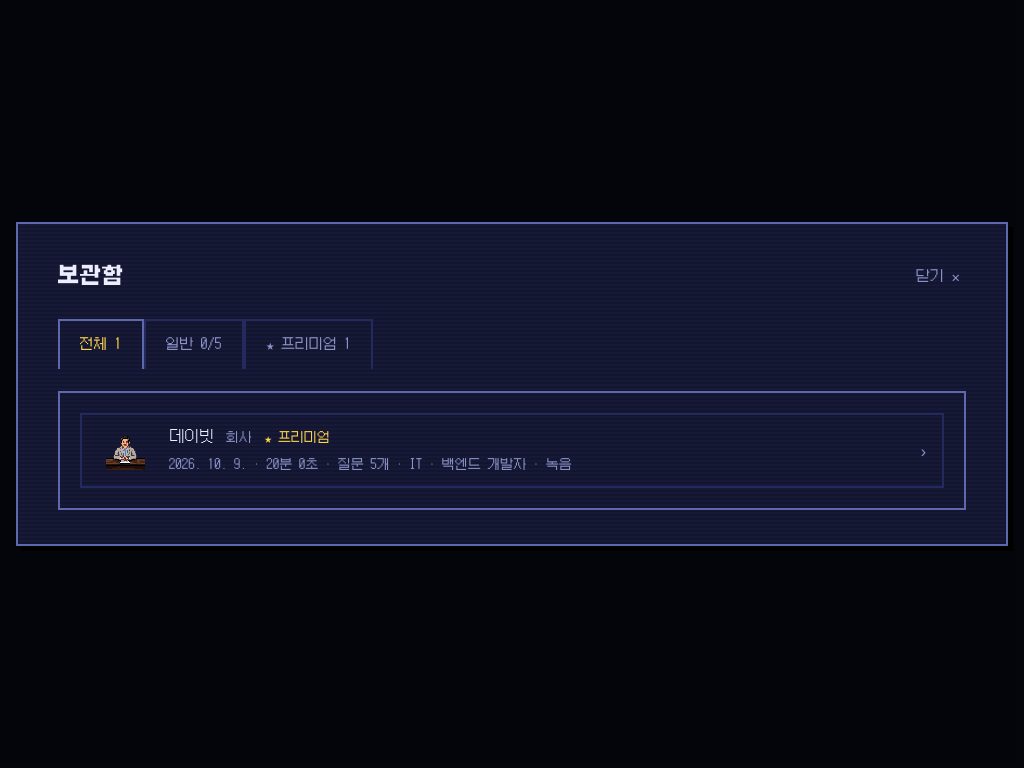
Test: ArchiveModal — 상세 › 녹음이 있으면 답변 옆에서 재생할 수 있다
The width and height of the screenshot is (1024, 768).
Click the button with test id "archive-row": click(126, 451) left=80, top=413, right=944, bottom=488
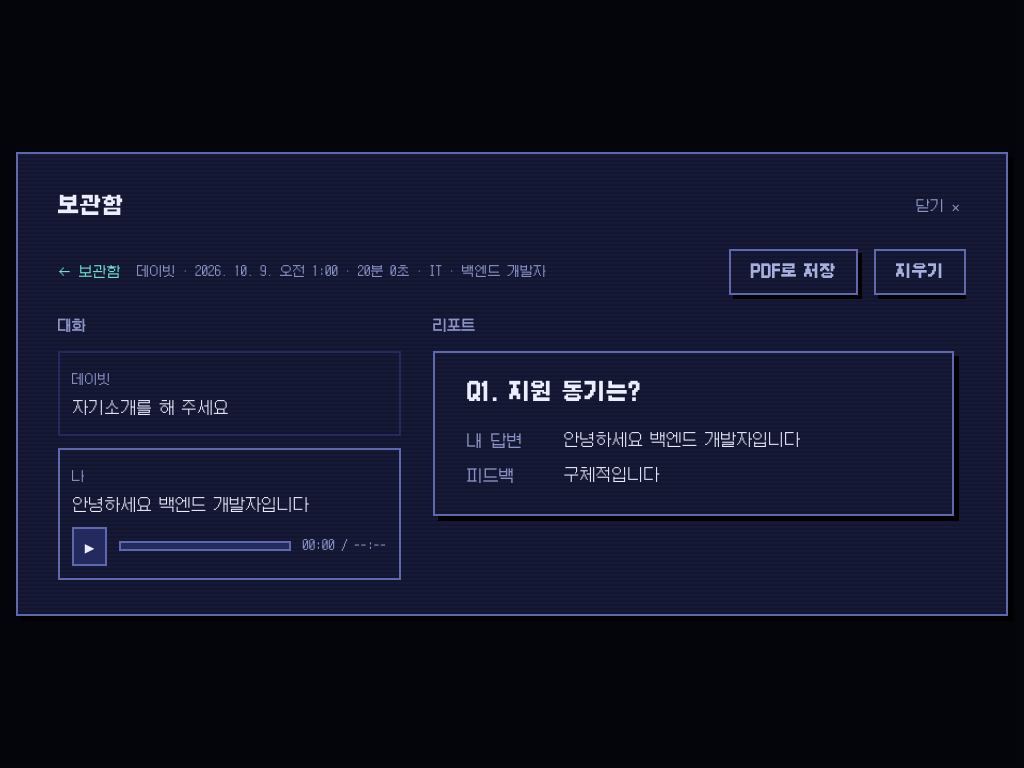
Now the number of elements with test id "archive-clip" is 1, box left=72, top=527, right=387, bottom=566
